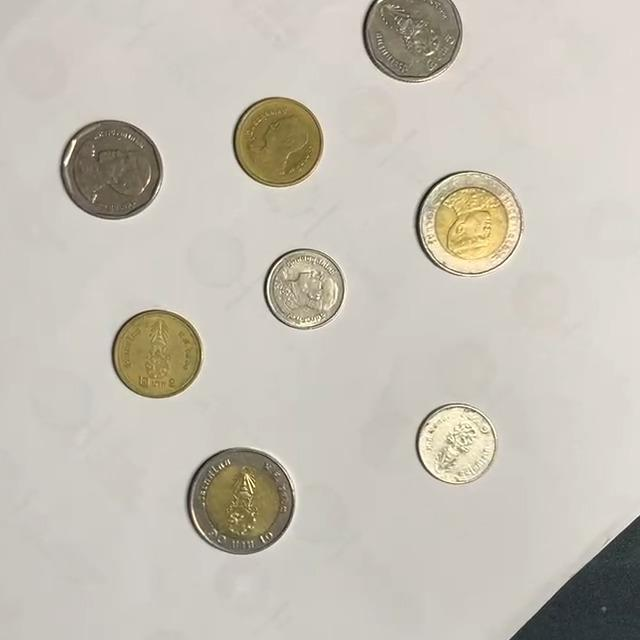1-baht: (417, 404, 502, 486), (264, 248, 347, 330)
10-baht: (189, 448, 296, 555), (418, 172, 524, 276)
2-baht: (234, 97, 326, 188), (112, 309, 203, 400)
5-baht: (62, 119, 165, 220), (363, 0, 466, 85)
